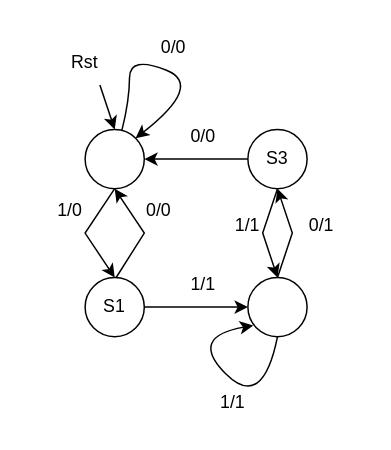
Image size: 391x450. Some labels were removed from this diagram. Each missing label, with the centre of its shape:
"S0" goes at [114,158].
"S2" goes at [276,306].
